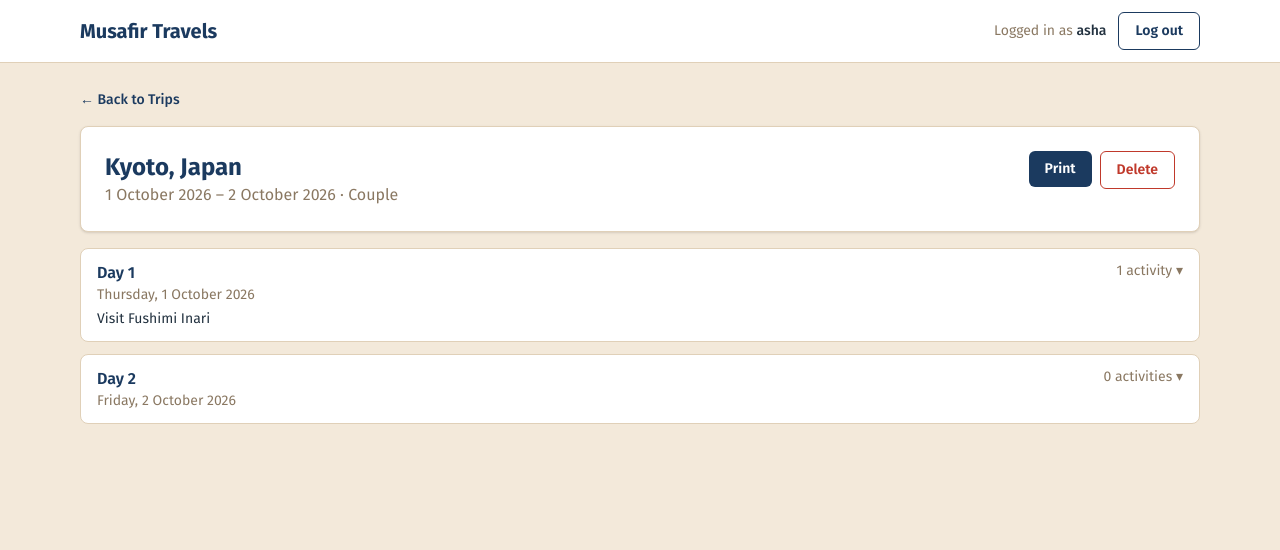
Scenario: TripItineraryPage › expands a day, adds an activity, and deletes the trip without refetching the detail
Expected: the heading "Kyoto, Japan" is shown, [105,153,242,181]
Step 1. Click the button "Day 2 Friday, 2 October 2026 0 activities ▾" → (112, 378), box [81,355,1199,423]
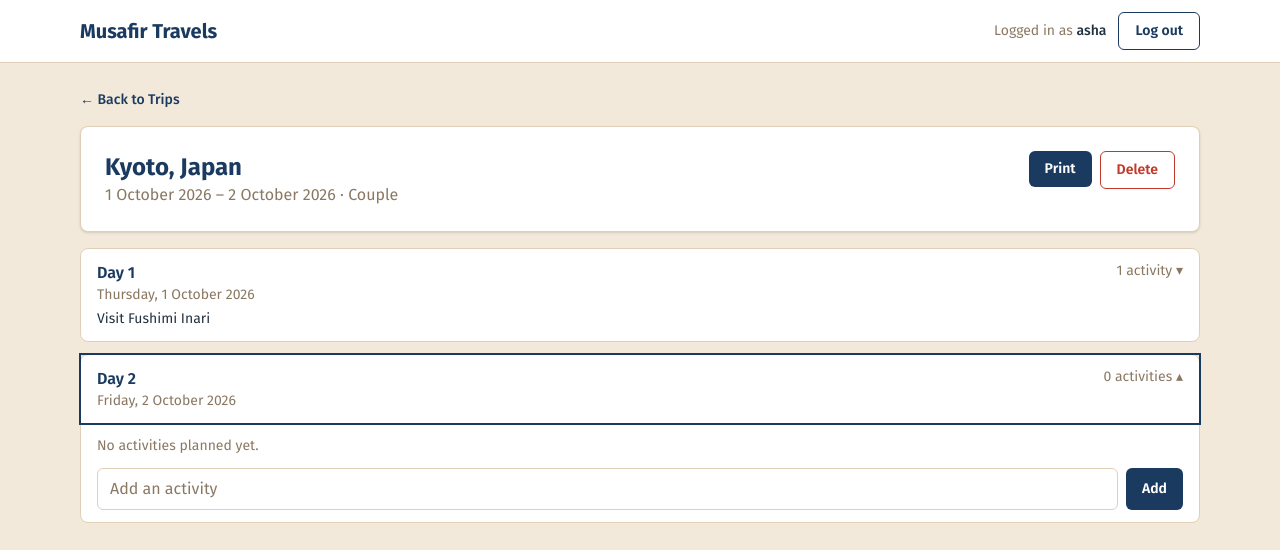
Step 2. Type "Nishiki market" into the field named "New activity for Day 2" → (608, 489), box [97,468,1118,510]
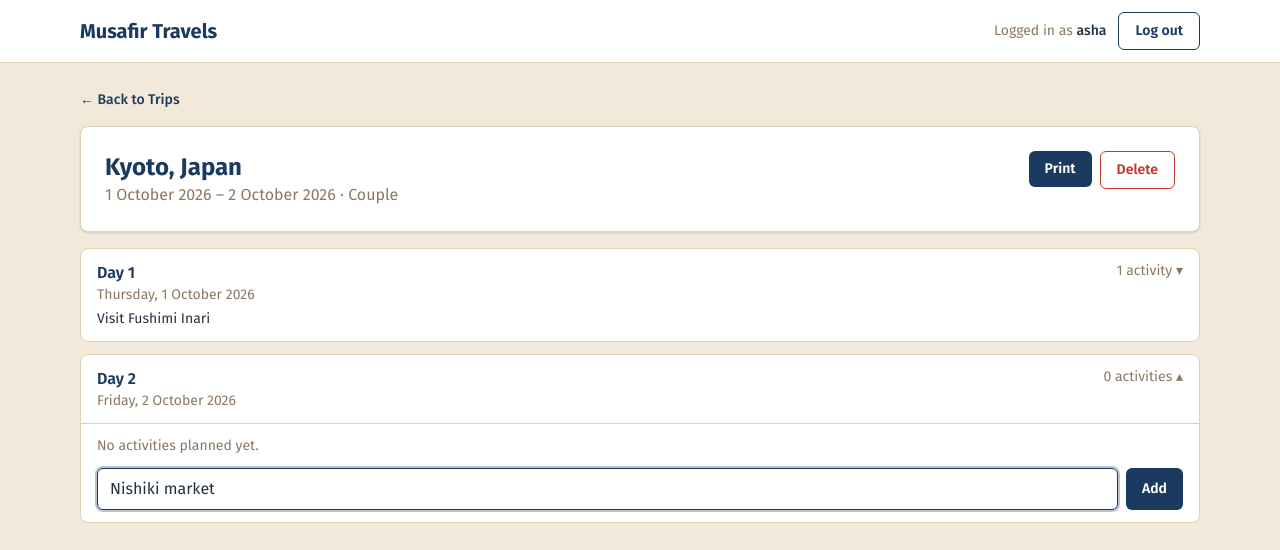
Step 3. Click the button "Add" → (1154, 489), box [1126,468,1183,510]
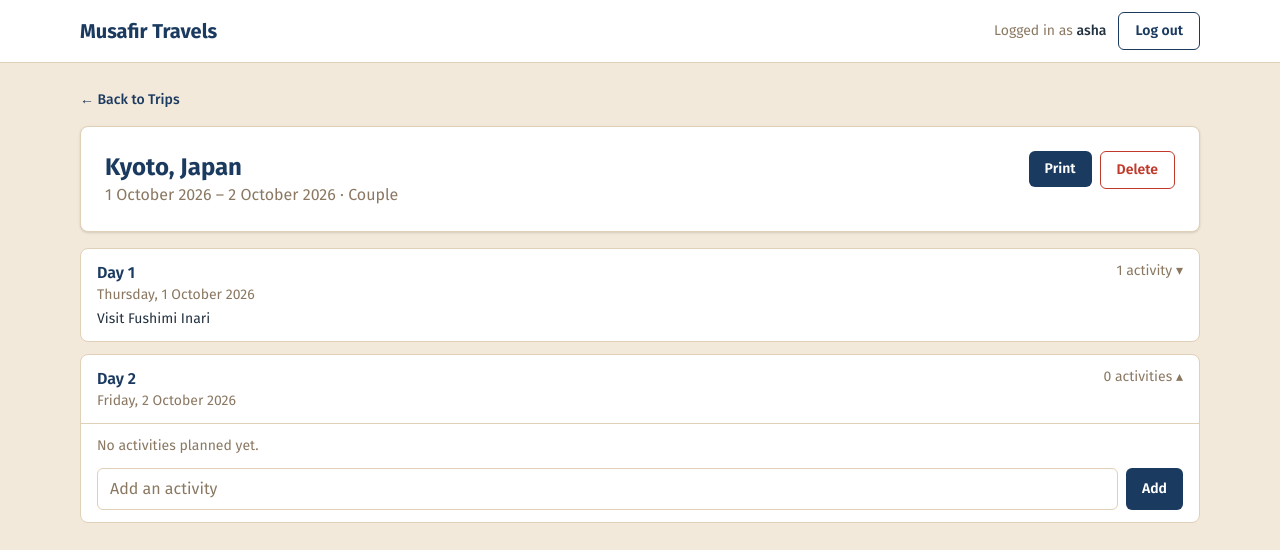
Step 4. Click the button "Delete" → (1137, 170), box [1100,151,1175,189]
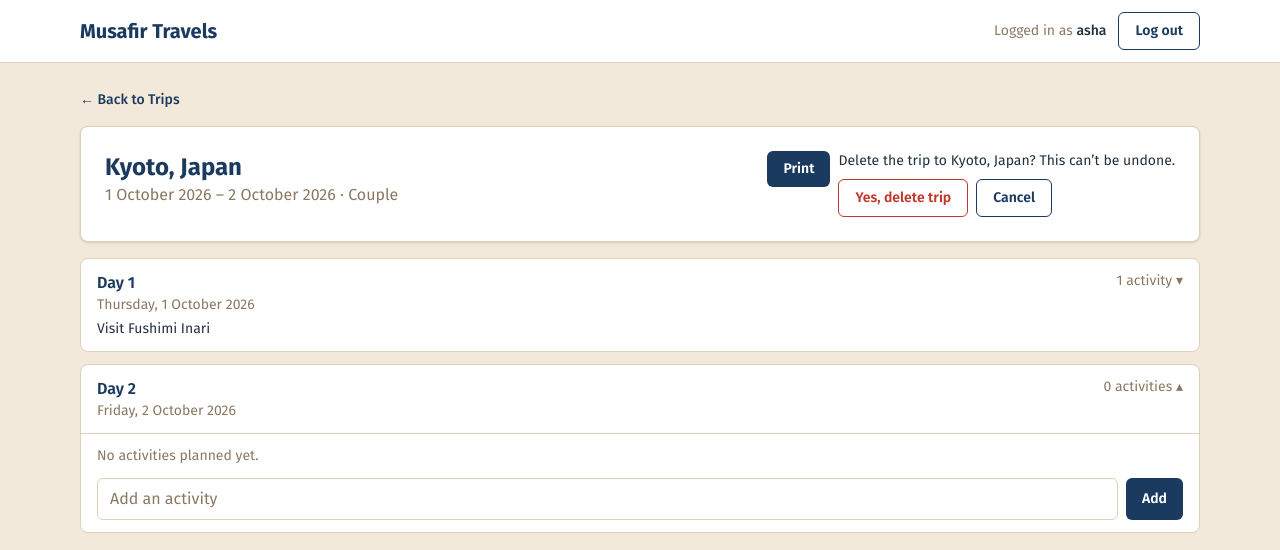
Step 5. Click the button "Yes, delete trip" → (903, 198), box [838,179,968,217]
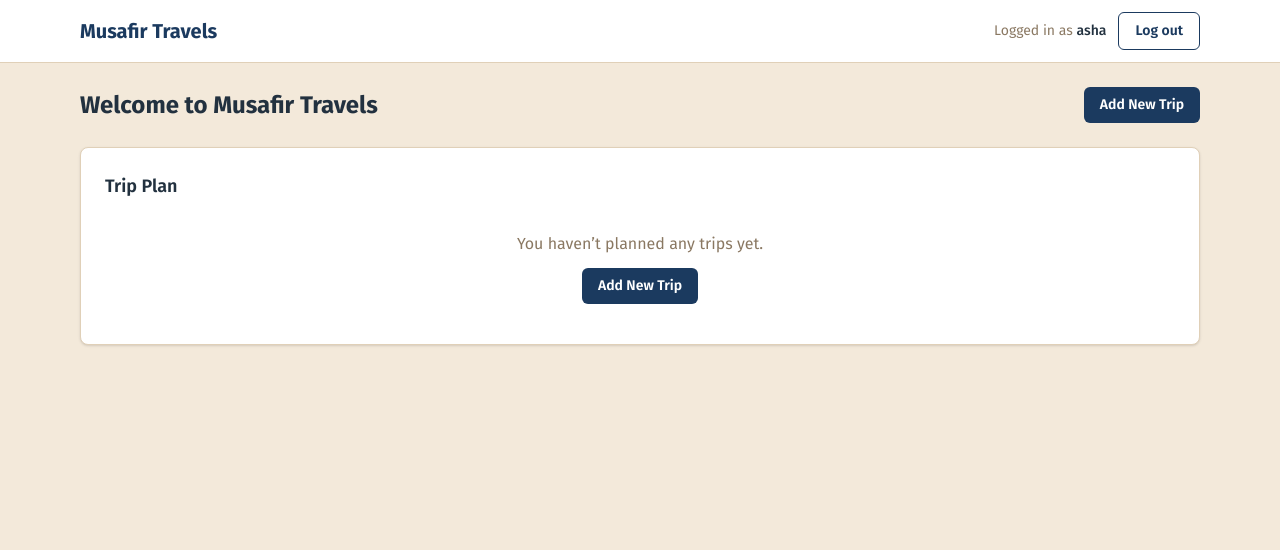
Expected: the heading "Welcome to Musafir Travels" is shown, [80,89,378,121]
